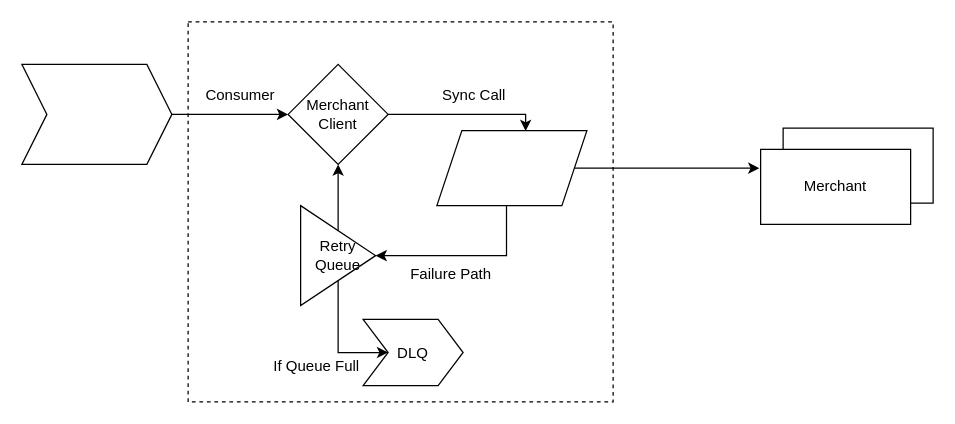
The diagram is 955 pixels wide and 424 high, and some of its shapes have lost their labels. The shapes that lost their labels are listed below. From the top down, each one's centre as x and y in pixels, then its label:
At point 96,113: "Mock Kafka".
At point 511,167: "Circuit Breaker".
